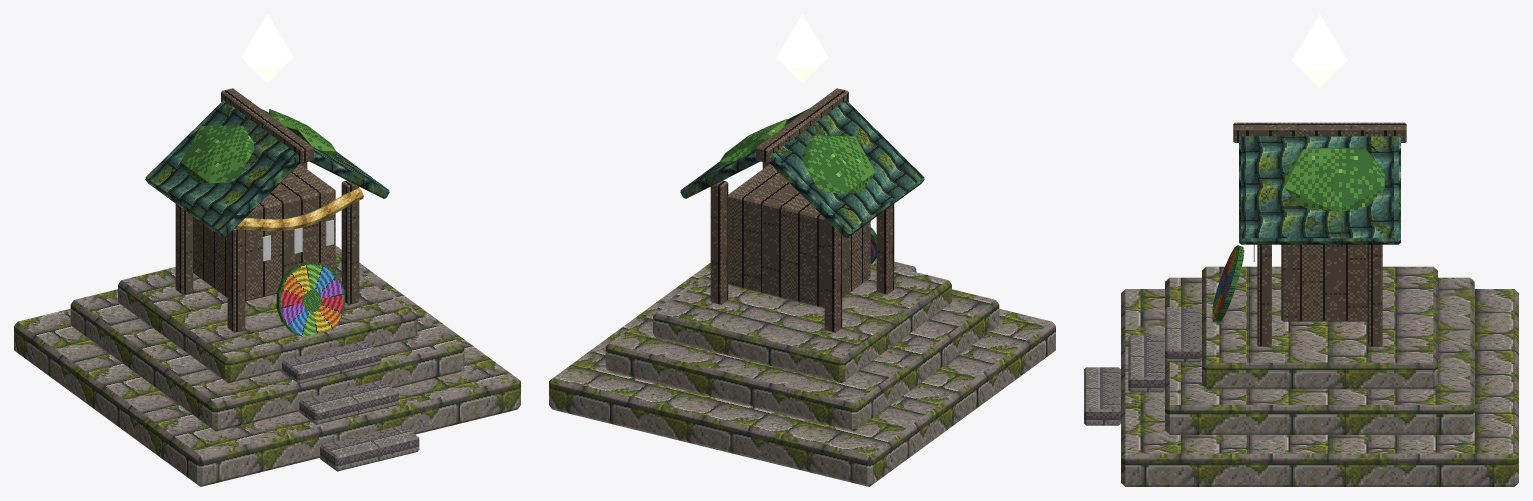
Rendered from ilex_altar.glb.
3 views of the same model, side by side, from view 1: azimuth 30°, elevation 25°; view 2: azimuth 150°, elevation 25°; view 3: azimuth 270°, elevation 25° (orthographic). The views are drawn at different scales.
Visible parts, largest first — view 1: Altar, Crystal; view 2: Altar, Crystal; view 3: Altar, Crystal.
Part boxes in pixels (x1,y1,x2,y2): Altar: [14, 88, 520, 486]; Crystal: [241, 14, 293, 83]; Altar: [549, 88, 1055, 486]; Crystal: [776, 14, 828, 83]; Altar: [1084, 122, 1518, 486]; Crystal: [1292, 14, 1347, 87].
Bounding box in the file's own units: 5.4 × 5.85 × 5.9.
9 materials, 8 textured.
